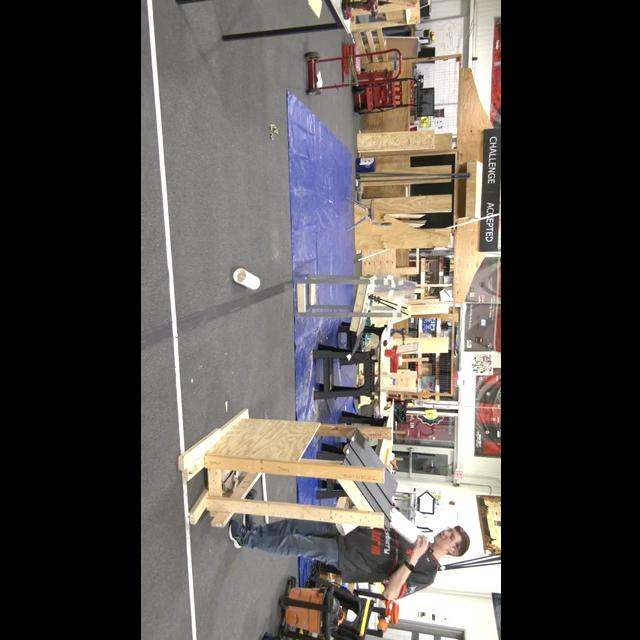CORAL: (389, 508, 418, 542), (230, 268, 260, 290)
